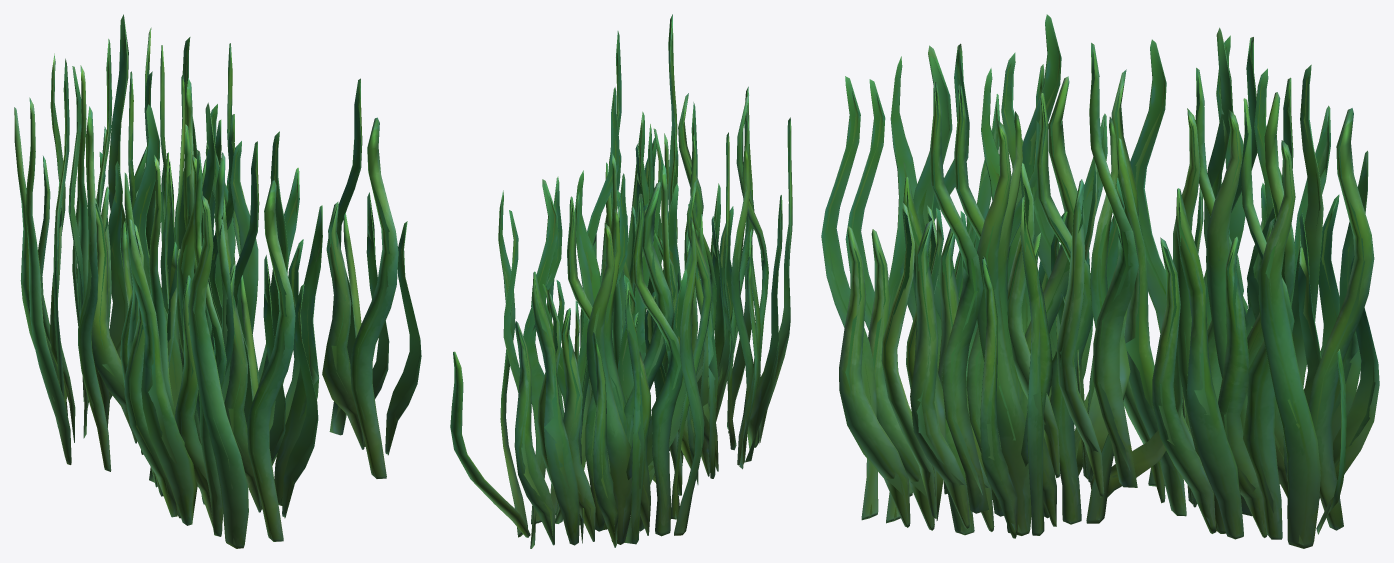
File: Plants_2.fbx
The picture shows the model from 3 angles, left to right: view 1: azimuth 30°, elevation 25°; view 2: azimuth 150°, elevation 25°; view 3: azimuth 270°, elevation 25°; orthographic projection. The views are drawn at different scales.
Parts seen in each view (by area): view 1: low poly plants.001; view 2: low poly plants.001; view 3: low poly plants.001.
Boxes of the visible parts, x1,y1,x2,y2 form: low poly plants.001: (14, 14, 421, 548); low poly plants.001: (450, 14, 792, 548); low poly plants.001: (821, 14, 1379, 548).
Size of the model in its own units: 2.51 by 4.45 by 4.48.
1 material, 1 textured.
